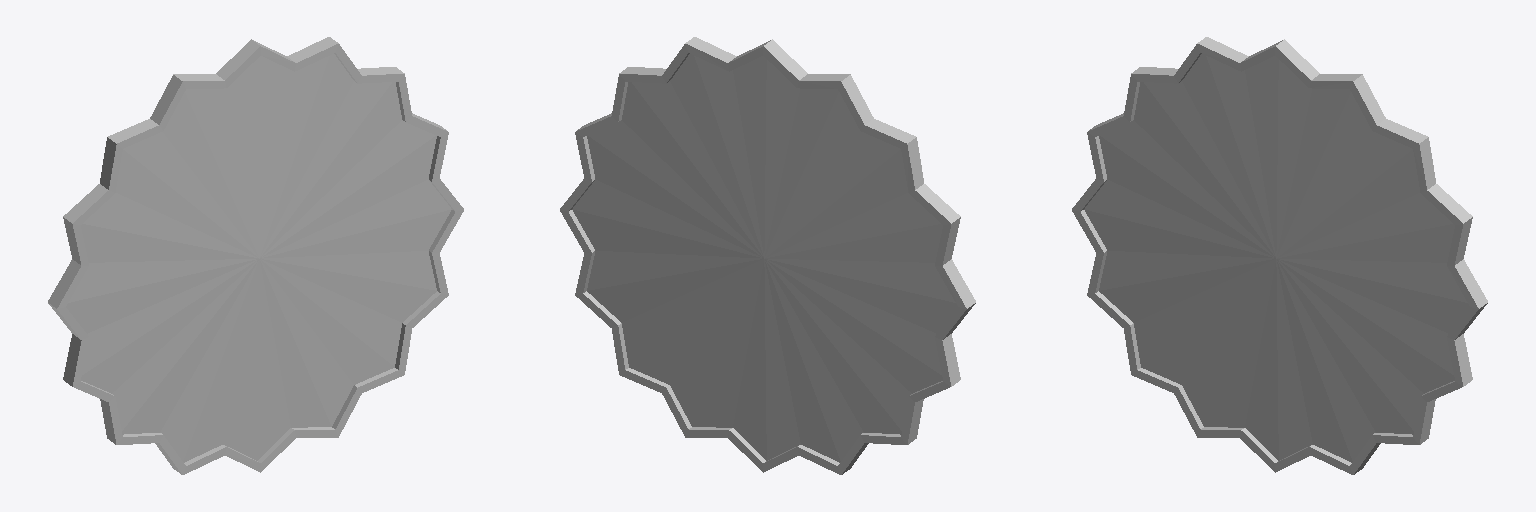
Rendered from money.obj.
3 renders of one model, left to right at view 1: azimuth 30°, elevation 25°; view 2: azimuth 150°, elevation 25°; view 3: azimuth 330°, elevation 25°, orthographic.
Visible parts, largest first — view 1: Circle_Circle.001; view 2: Circle_Circle.001; view 3: Circle_Circle.001.
Boxes of the visible parts, box(x1,y1,x2,y2) form: Circle_Circle.001: box(48, 37, 463, 474); Circle_Circle.001: box(560, 37, 975, 474); Circle_Circle.001: box(1072, 37, 1487, 474).
Bounding box in the file's own units: 2 × 2 × 0.0812.